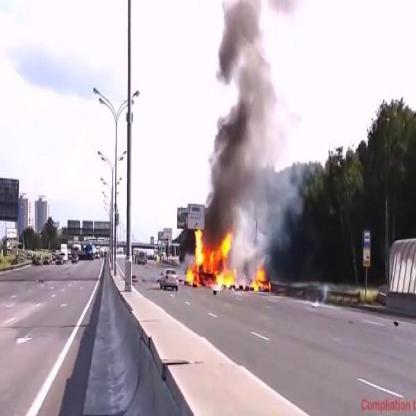fire: (184, 224, 242, 290), (250, 265, 271, 293)
